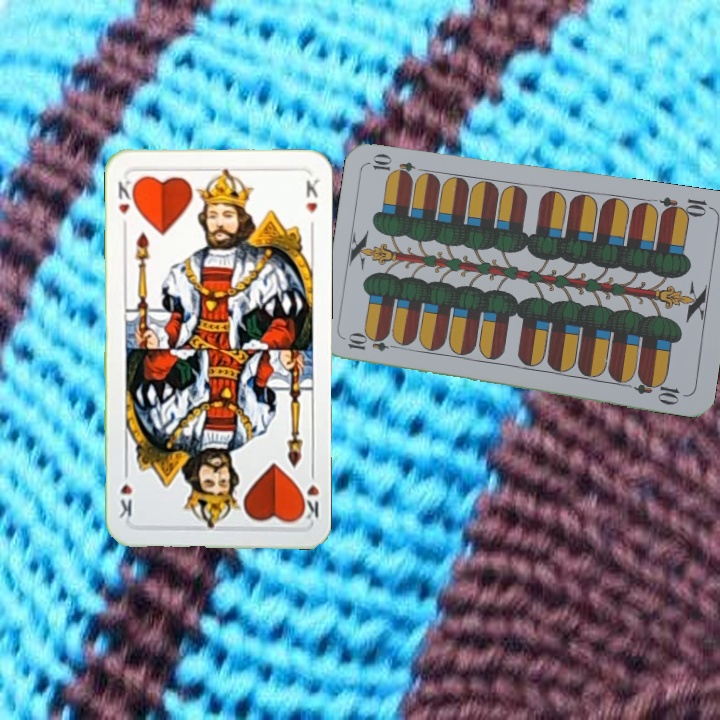E10: (657, 193, 716, 221), (344, 332, 403, 354)
HK: (296, 464, 322, 523), (114, 175, 138, 217)
